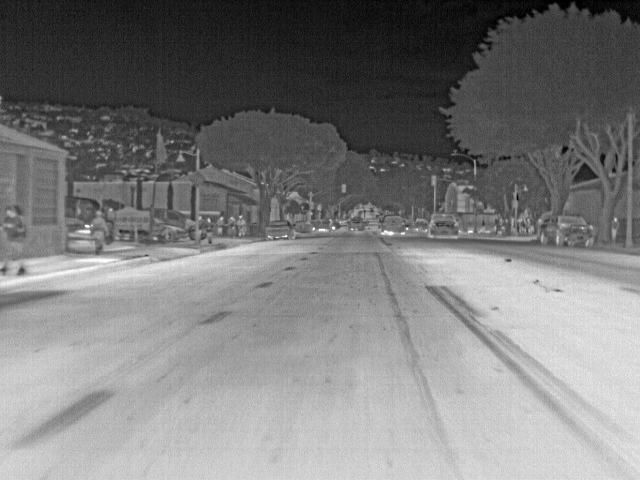car: (541, 213, 596, 244), (429, 211, 462, 237), (265, 218, 295, 239), (153, 223, 184, 243), (156, 207, 188, 223), (382, 213, 406, 234), (314, 218, 342, 230), (347, 214, 368, 230), (295, 218, 312, 232), (412, 218, 427, 232)
person: (1, 206, 27, 278), (93, 209, 109, 253), (583, 223, 597, 248), (610, 215, 623, 241), (203, 215, 215, 243), (238, 213, 250, 237), (215, 212, 227, 234), (226, 213, 239, 233), (198, 215, 205, 238)
